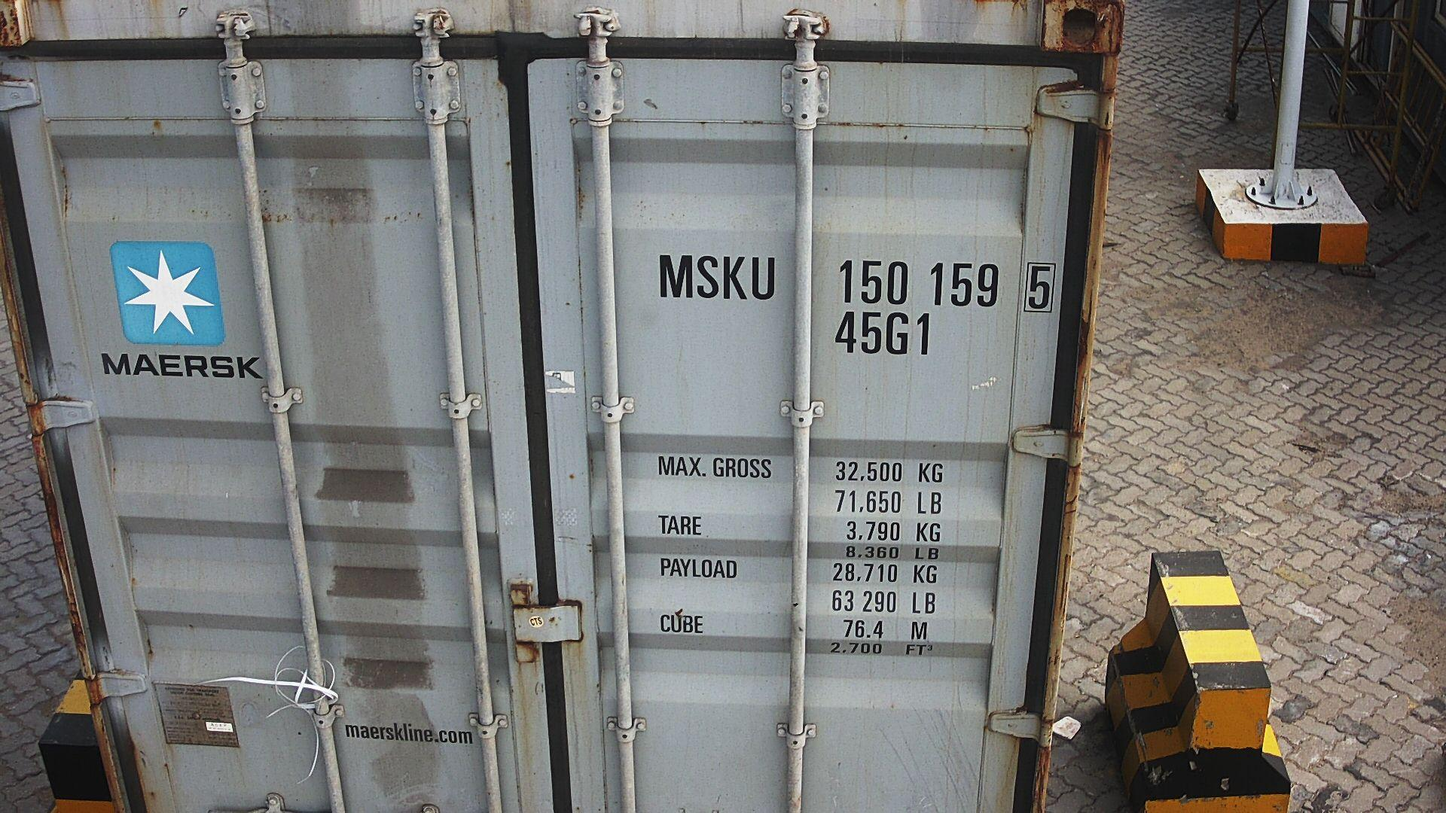container-numbers: (648, 251, 1063, 315), (831, 309, 936, 358)
